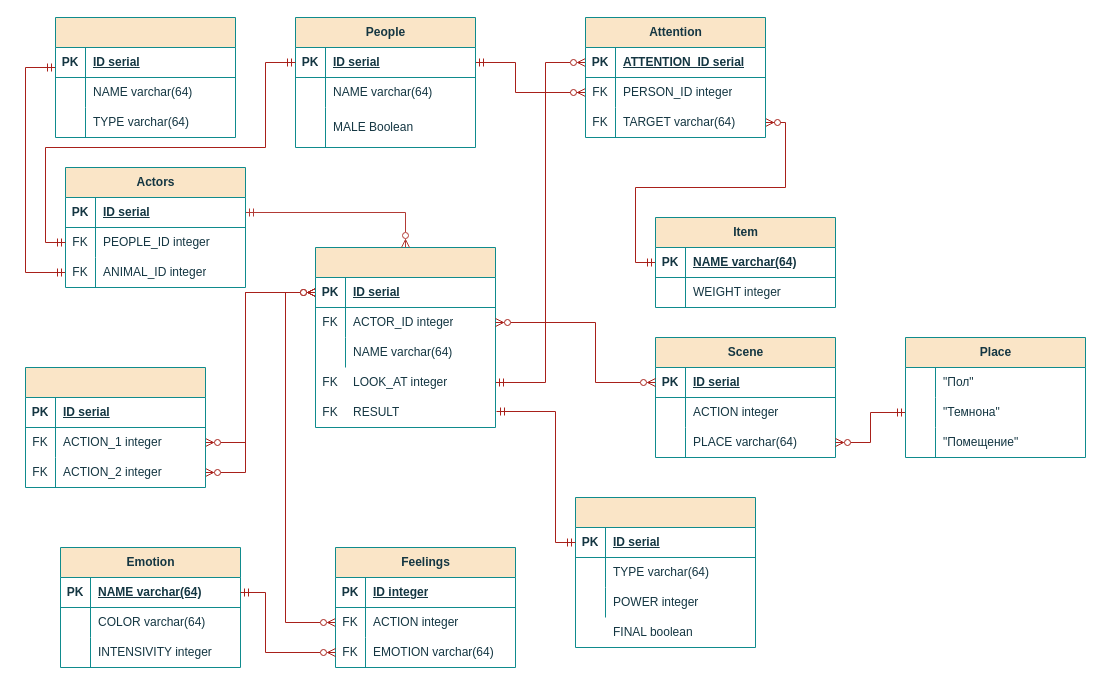
Image size: 1103x685. Some labels were removed from this diagram. The box of each missing label's shape, as (x1, y1, x2, y2) in pixels:
Action: (314, 246, 496, 428)
Animal: (54, 16, 236, 138)
History: (24, 366, 206, 488)
Последствие: (574, 496, 756, 648)
